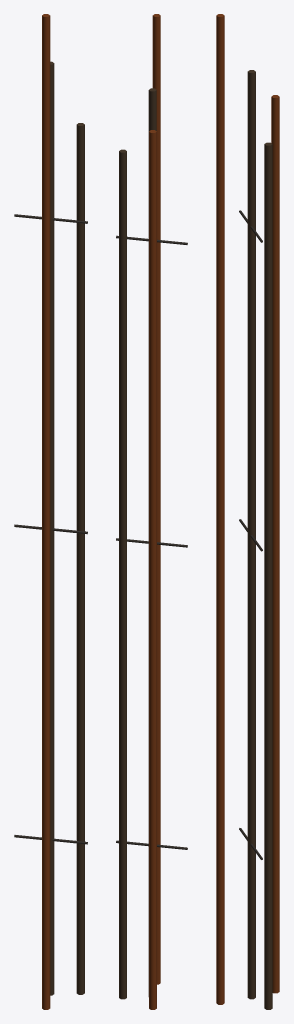
File: rebar_cluster.obj
The picture shows the model from 3 angles, left to right: view 1: azimuth 30°, elevation 25°; view 2: azimuth 210°, elevation 25°; view 3: azimuth 330°, elevation 25°; orthographic projection. The views are drawn at different scales.
Parts seen in each view (by area): view 1: cyl_2, cyl_1, cyl_0; view 2: cyl_3, cyl_1, cyl_2, cyl_0; view 3: cyl_2, cyl_0, cyl_1, cyl_3.
Boxes of the visible parts, bbox=[...] form: cyl_2: bbox=[42, 14, 50, 1009]; cyl_1: bbox=[76, 123, 84, 994]; cyl_0: bbox=[50, 61, 54, 995]; cyl_3: bbox=[149, 130, 156, 1009]; cyl_1: bbox=[119, 149, 126, 999]; cyl_2: bbox=[152, 14, 160, 984]; cyl_0: bbox=[148, 88, 156, 996]; cyl_2: bbox=[216, 14, 224, 1004]; cyl_0: bbox=[247, 70, 255, 999]; cyl_1: bbox=[264, 142, 272, 1009]; cyl_3: bbox=[271, 95, 279, 993].
Size of the model in its own units: 0.1731 by 3.2 by 0.174.
